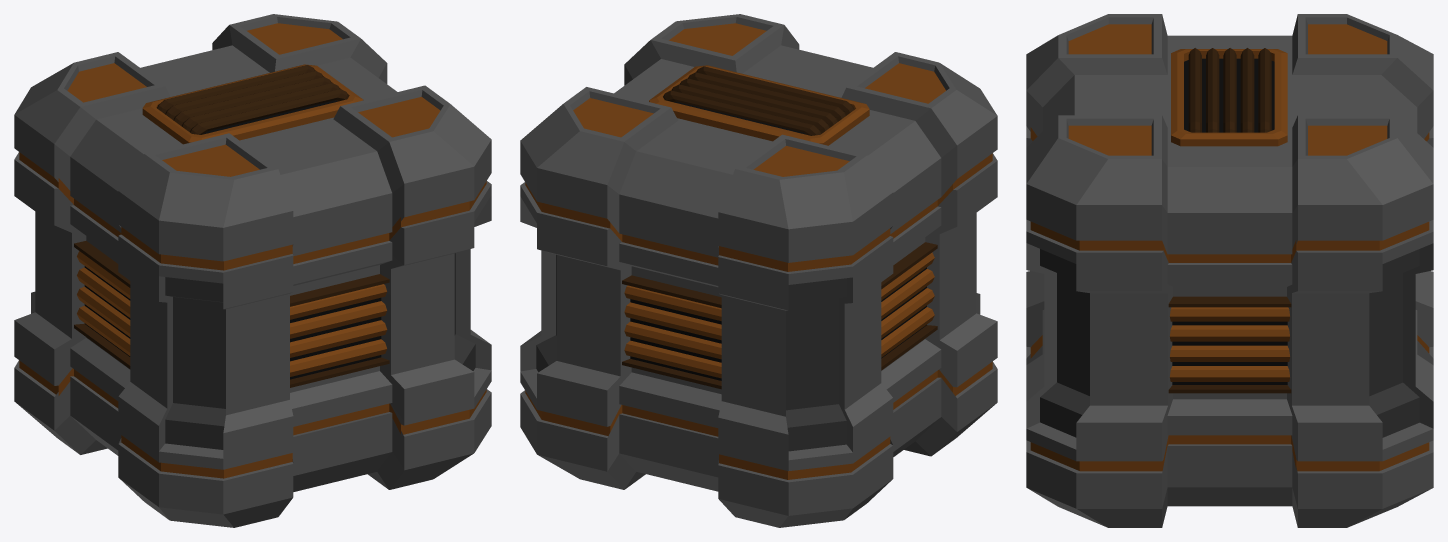
The model's file is Props_Crate.obj.
3 views of the same model, side by side, from view 1: azimuth 30°, elevation 25°; view 2: azimuth 150°, elevation 25°; view 3: azimuth 270°, elevation 25° (orthographic). The views are drawn at different scales.
Parts seen in each view (by area): view 1: Props_Crate_Cube; view 2: Props_Crate_Cube; view 3: Props_Crate_Cube.
Boxes of the visible parts, x1,y1,x2,y2 form: Props_Crate_Cube: (14, 14, 491, 527); Props_Crate_Cube: (520, 14, 997, 527); Props_Crate_Cube: (1026, 14, 1433, 527).
Size of the model in its own units: 0.7971 by 0.8055 by 0.7971.
